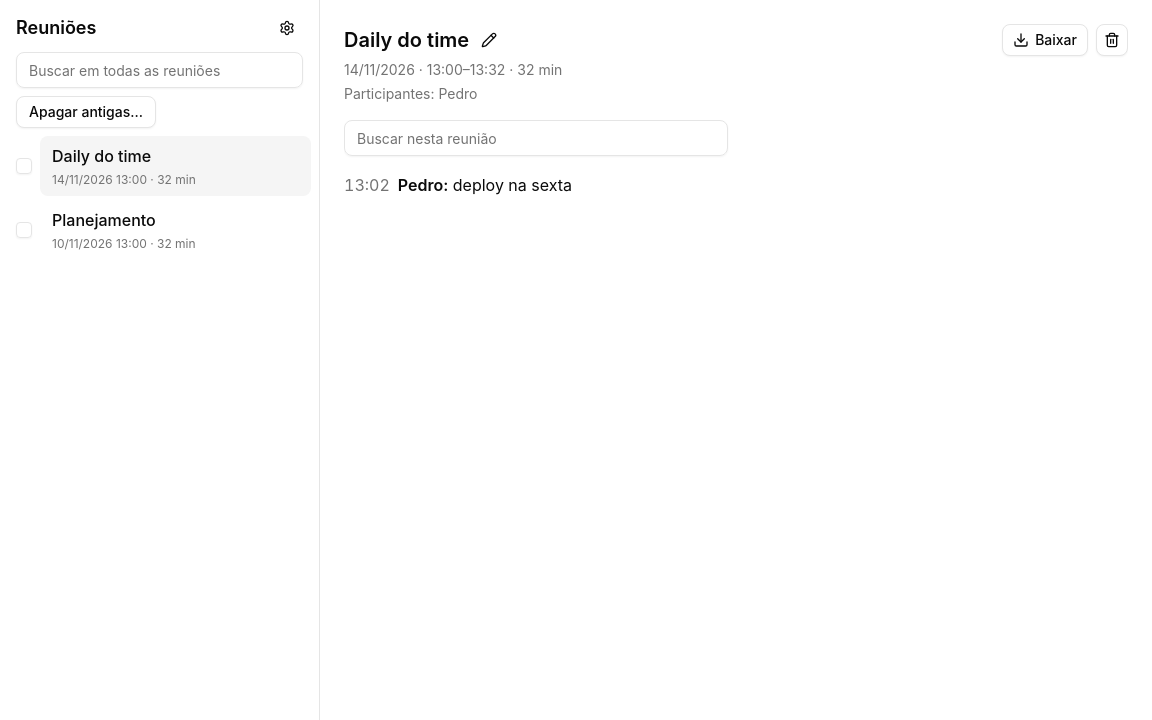
MeetingsApp › apagar as reuniões selecionadas
Later steps or results of the test are not shown.
Click the checkbox named "Selecionar Daily do time".
click(24, 166)  # box x1=16 y1=158 x2=32 y2=174
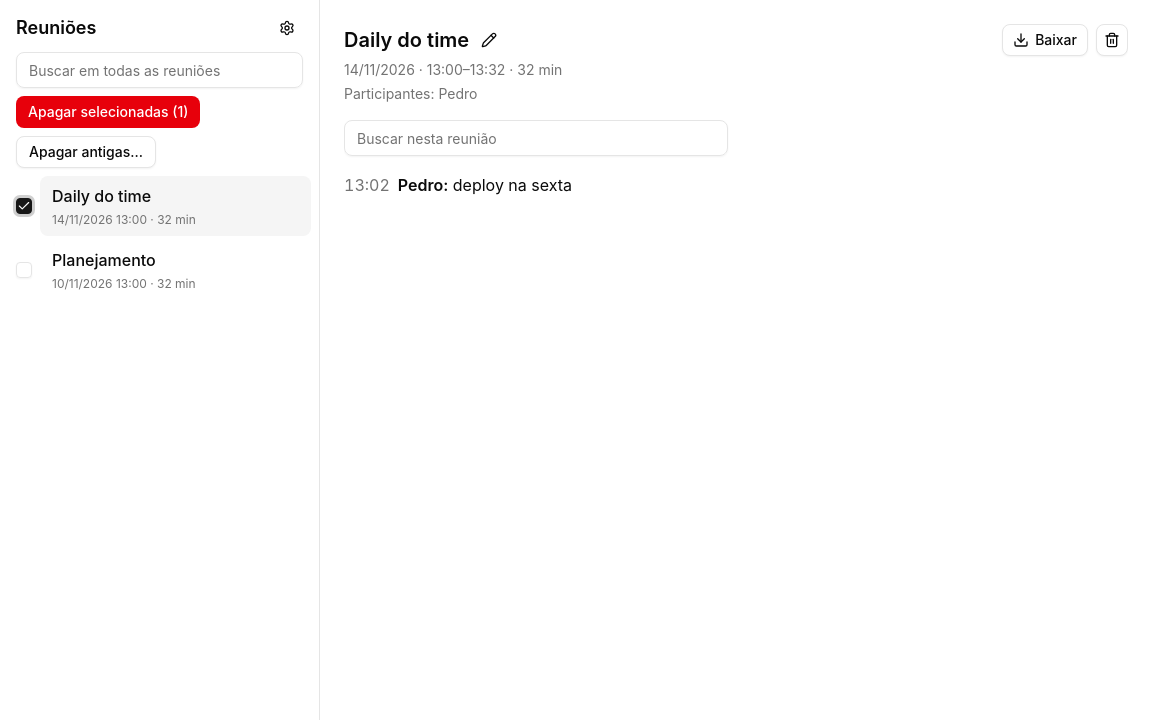
Click the checkbox named "Selecionar Planejamento".
click(24, 270)  # box x1=16 y1=262 x2=32 y2=278
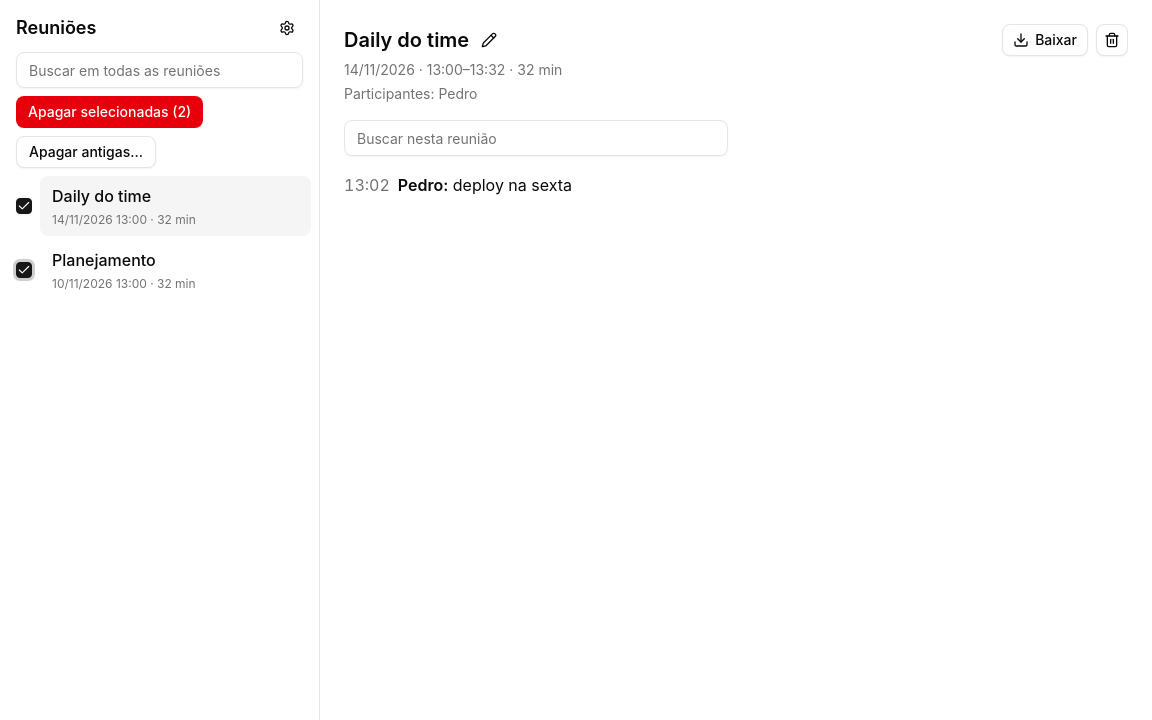
Click the button "Apagar selecionadas (2)".
click(110, 112)  # box x1=16 y1=96 x2=203 y2=128
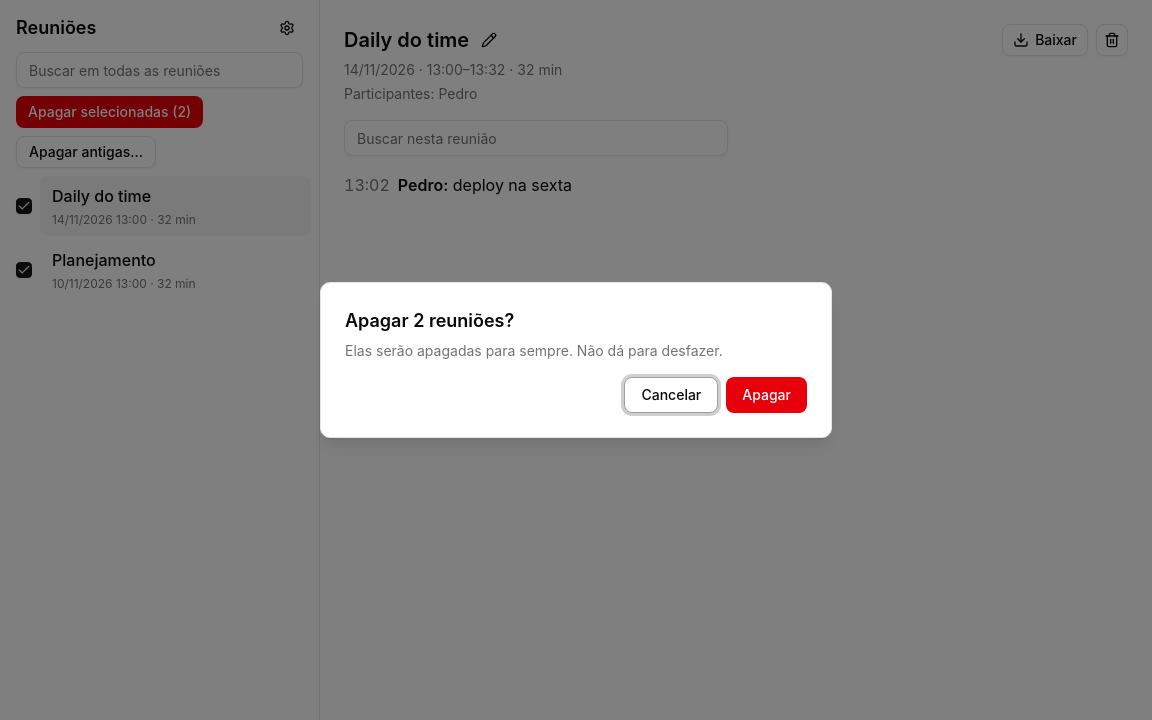
Check: the heading "Apagar 2 reuniões?" is shown, box x1=345 y1=307 x2=514 y2=335
